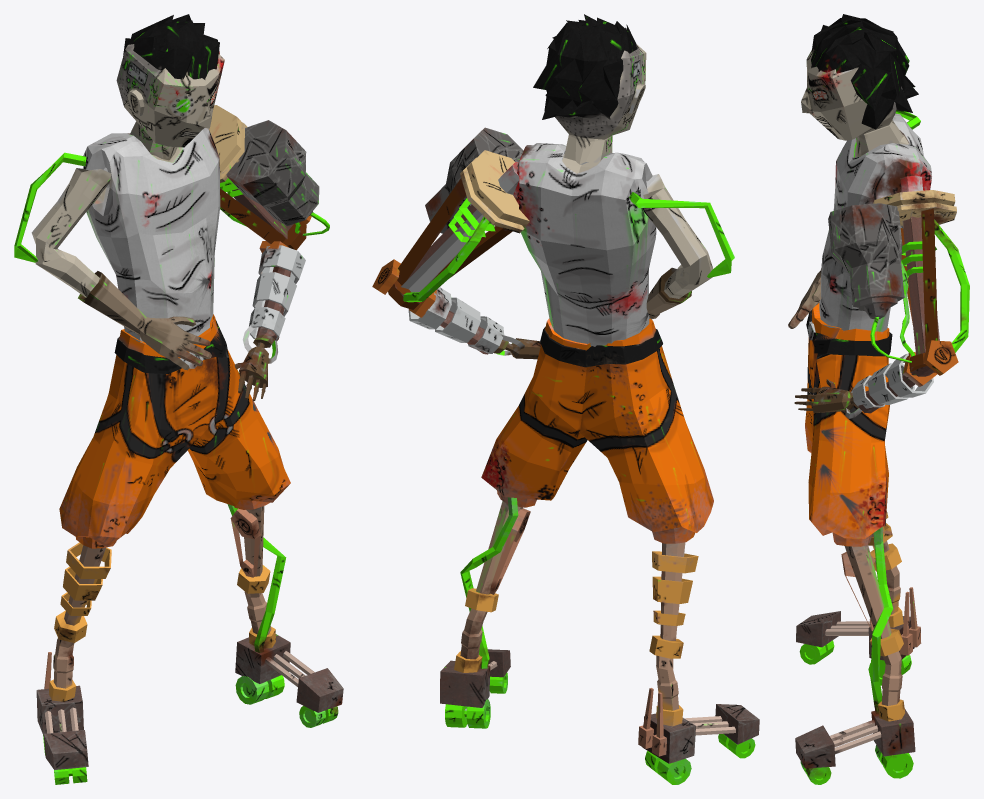
Rendered from CyborgFINALAnimation_000013.obj.
3 renders of one model, left to right at view 1: azimuth 30°, elevation 25°; view 2: azimuth 150°, elevation 25°; view 3: azimuth 270°, elevation 25°, orthographic. The views are drawn at different scales.
Parts seen in each view (by area): view 1: CyborgMesh_Cube.002; view 2: CyborgMesh_Cube.002; view 3: CyborgMesh_Cube.002.
Boxes of the visible parts, x1,y1,x2,y2 form: CyborgMesh_Cube.002: [14, 14, 343, 784]; CyborgMesh_Cube.002: [372, 14, 759, 784]; CyborgMesh_Cube.002: [788, 14, 969, 784].
Size of the model in its own units: 4.53 by 9.61 by 2.25.
